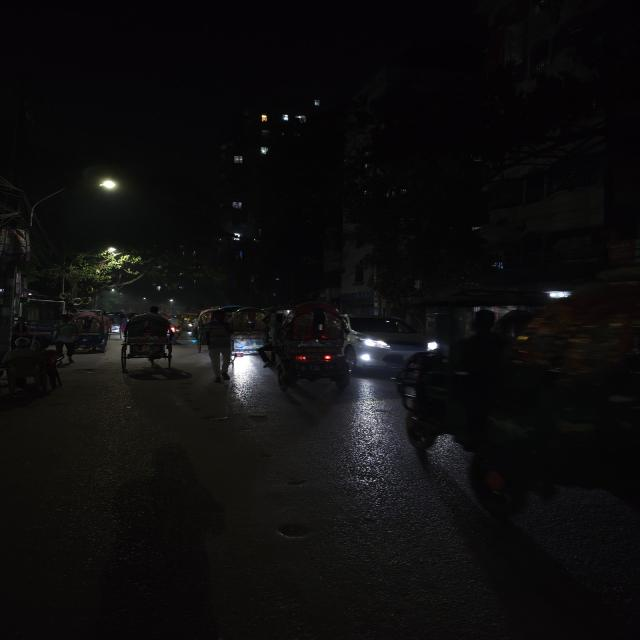car: (344, 312, 420, 381)
pedestrian: (48, 315, 79, 366), (208, 310, 230, 380)
rickshaw: (419, 323, 624, 469), (272, 304, 341, 387), (109, 309, 185, 377), (234, 307, 264, 368), (81, 308, 105, 355)
